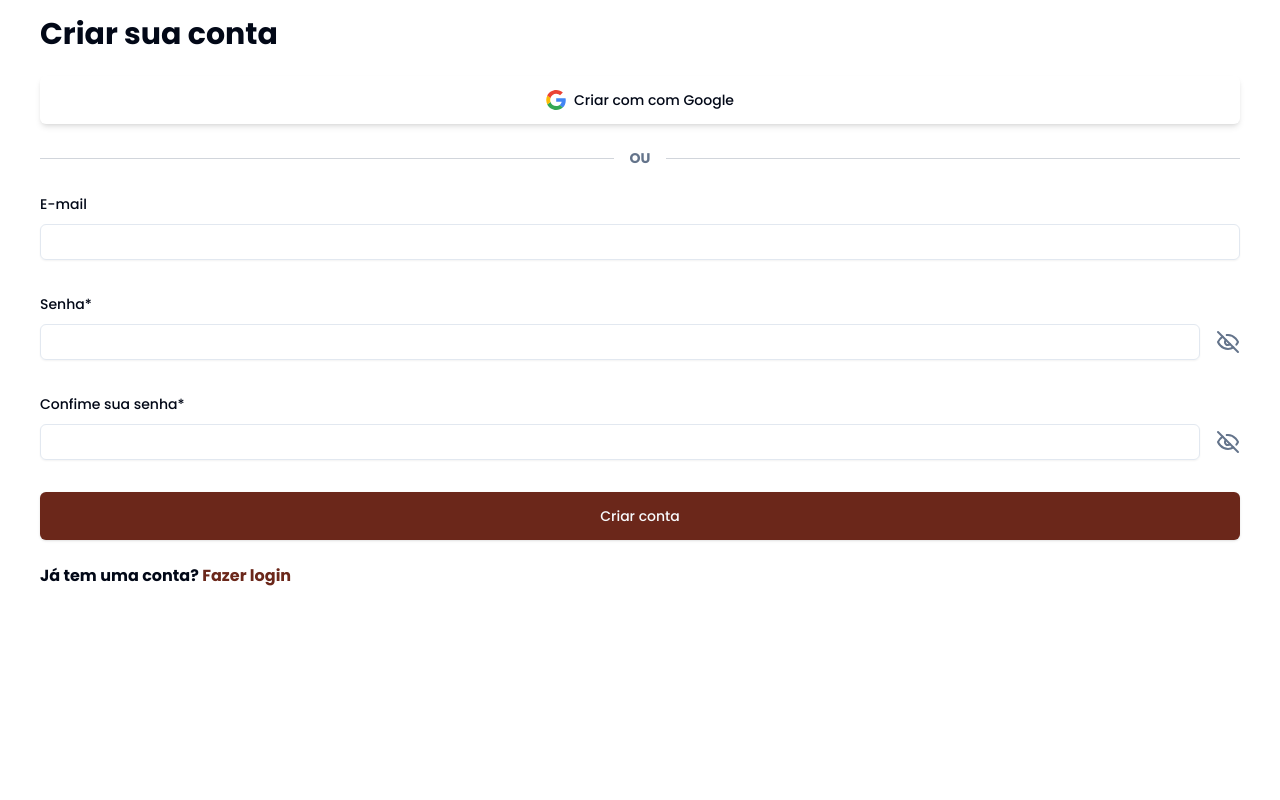
SignUp form component › should render validation errors if inputs values are not correct
The image size is (1280, 800).
Check: the number of fields with test id "signUpInput" is 3, box [40,224,1240,260]; [40,324,1200,360]; [40,424,1200,460]
Click the button "Criar conta": (640, 516) [40,492,1240,540]
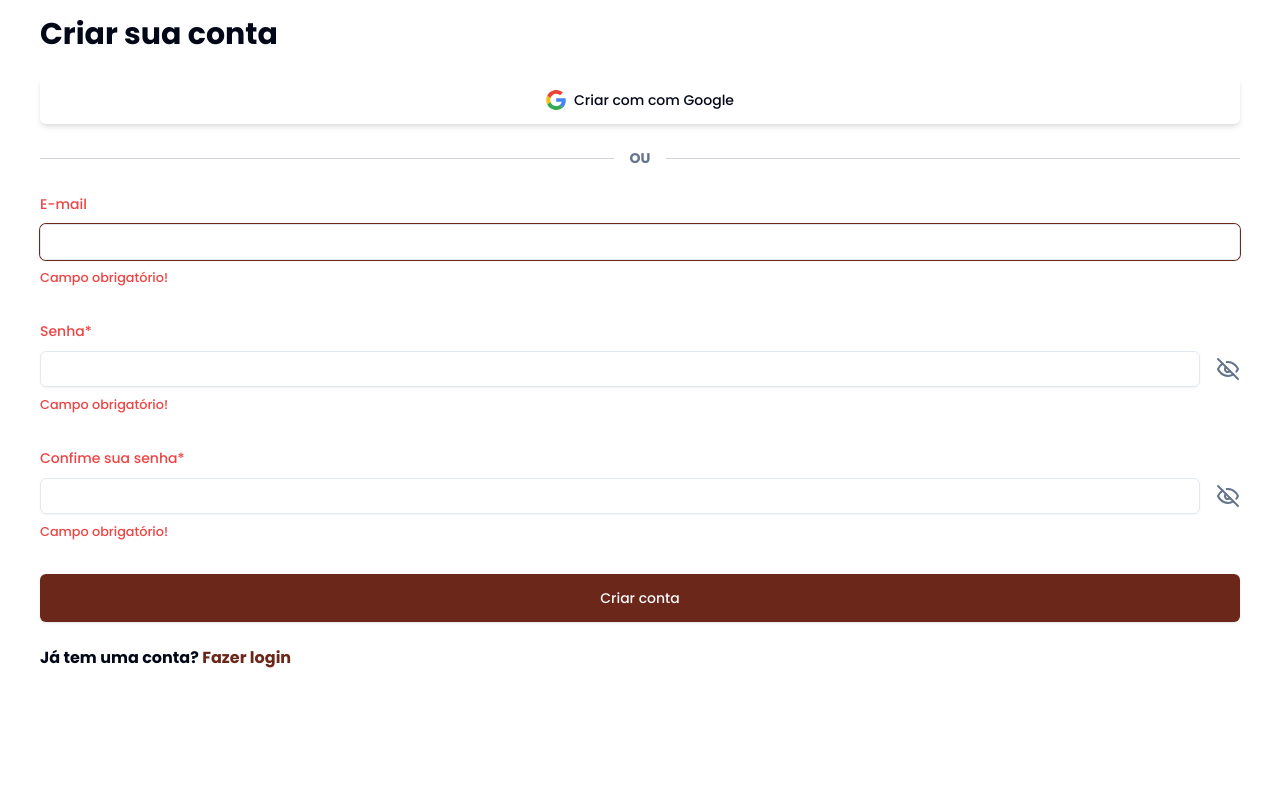
Check: the number of elements with test id "validationErrorMessage" is 3, box [40,269,168,286]; [40,396,168,413]; [40,523,168,540]
